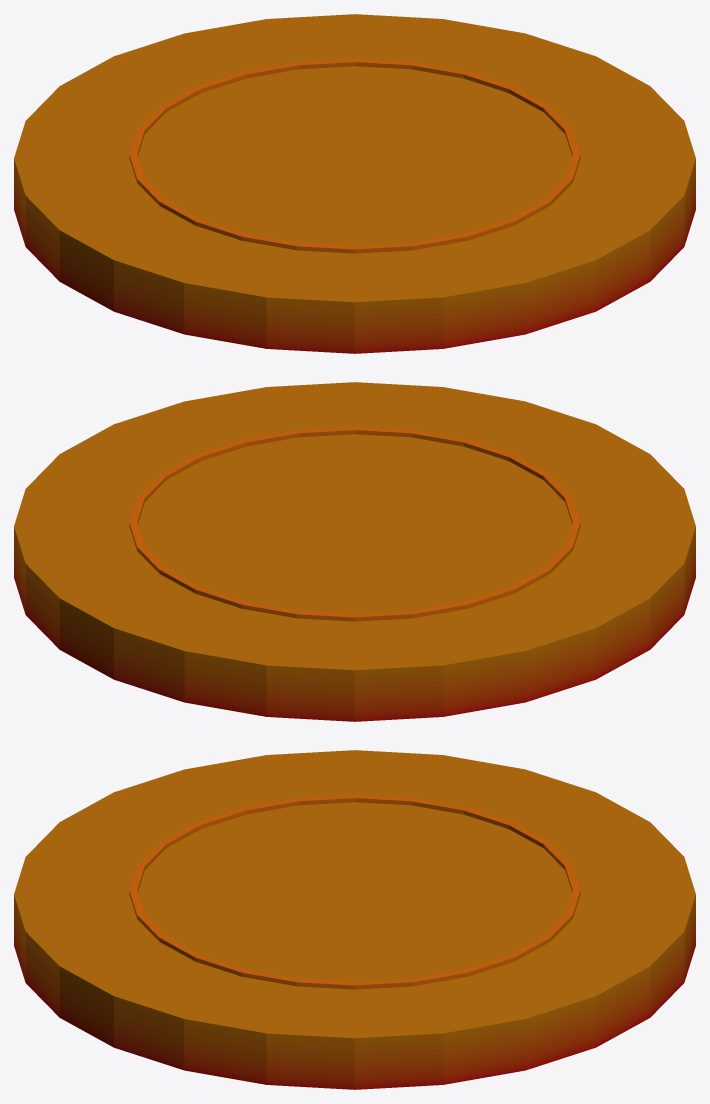
The model's file is plaza_ring.glb.
3 renders of one model, top to bottom at view 1: azimuth 30°, elevation 25°; view 2: azimuth 150°, elevation 25°; view 3: azimuth 270°, elevation 25°, orthographic.
Parts seen in each view (by area): view 1: plaza_ring; view 2: plaza_ring; view 3: plaza_ring.
Part boxes in pixels (x1,y1,x2,y2): plaza_ring: (14,14,695,353); plaza_ring: (14,382,695,721); plaza_ring: (14,750,695,1089).
Size of what is drawn, in the model's own units: 6 by 0.54 by 6.
